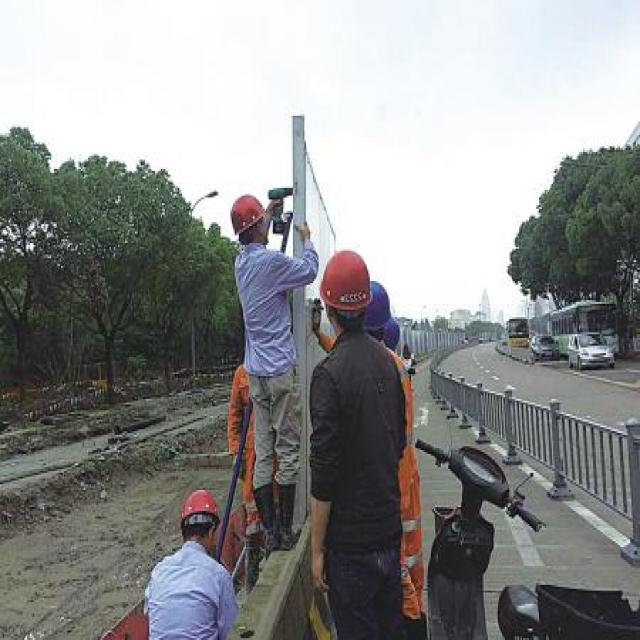Reflective-Jacket: (382, 334, 425, 629)
Safety-Helmet: (316, 243, 375, 315), (174, 480, 224, 528), (228, 190, 272, 239)
